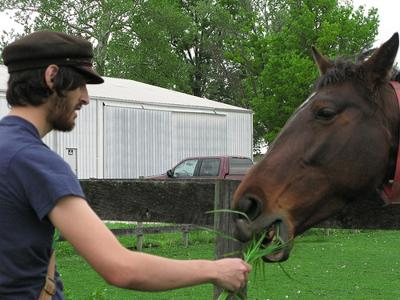person: (1, 30, 254, 300)
